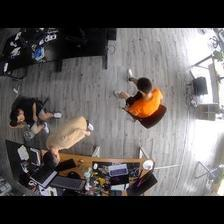normal: (112, 68, 163, 119), (9, 94, 54, 133), (36, 135, 78, 167)
